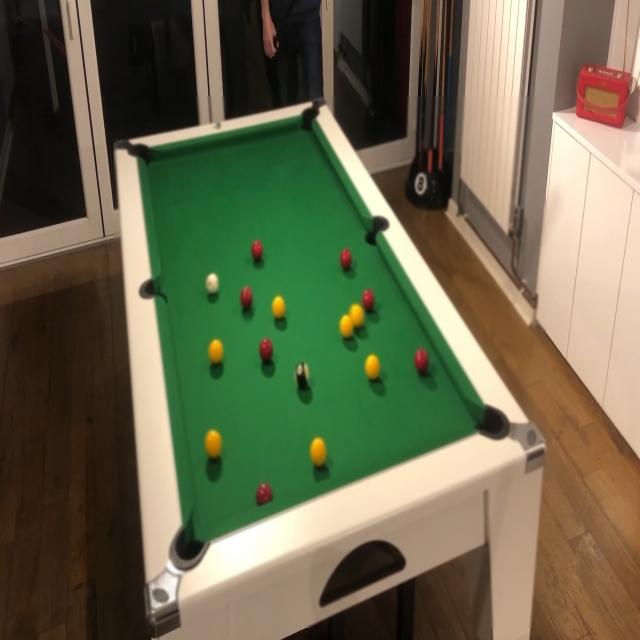Ball: (204, 429, 222, 459), (311, 437, 326, 466), (208, 339, 223, 366), (349, 304, 364, 328), (256, 482, 272, 504), (366, 355, 380, 380), (295, 362, 308, 388), (415, 348, 428, 374), (259, 339, 273, 363), (240, 285, 253, 309), (206, 272, 219, 295), (273, 296, 285, 318), (340, 316, 352, 338), (340, 249, 352, 269), (363, 289, 374, 310), (251, 241, 263, 260)
Billiard table: (114, 96, 546, 628)
